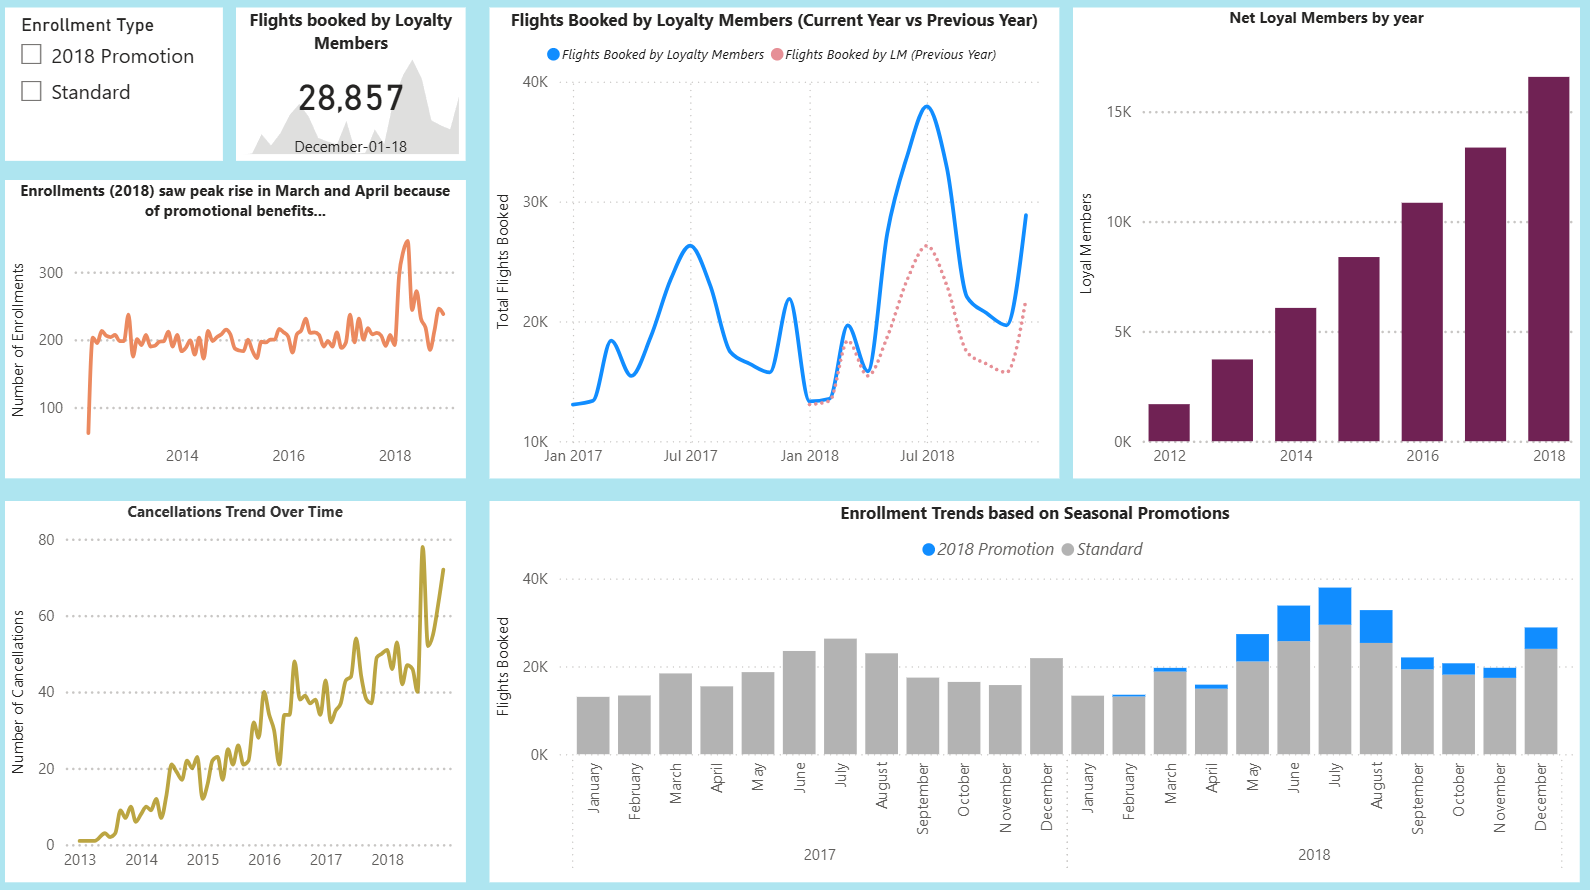

Layout of this report page (visuals, bound fields, positions):
{"tool":"powerbi","page":{"name":"Page 1","canvas":[1280,720],"ordinal":0},"visuals":[{"type":"lineChart","title":"Cancellations Trend Over Time","fields":{"Y":["Measure Table.Total Cancellations"],"Category":["Calendar.Start of Month.Variation.Date Hierarchy.Year","Calendar.Start of Month.Variation.Date Hierarchy.Month","Calendar.Start of Month.Variation.Date Hierarchy.Day"]},"box":[14.3,405.7,366.3,303.1],"z":0},{"type":"columnChart","title":"Net Loyal Members by year","fields":{"Category":["Calendar.Date.Variation.Date Hierarchy.Year","Calendar.Date.Variation.Date Hierarchy.Quarter","Calendar.Date.Variation.Date Hierarchy.Month","Calendar.Date.Variation.Date Hierarchy.Day"],"Y":["Measure Table.Net Loyal Members (Running Total)"]},"box":[863.9,13.1,403.3,374.7],"z":1000},{"type":"lineChart","title":"Enrollments (2018) saw peak rise in March and April because of promotional benefits...","fields":{"Y":["Measure Table.Total Enrollments"],"Category":["Calendar.Start of Month.Variation.Date Hierarchy.Year","Calendar.Start of Month.Variation.Date Hierarchy.Month","Calendar.Start of Month.Variation.Date Hierarchy.Day"]},"box":[14.3,150.4,366.3,237.5],"z":2000},{"type":"lineChart","title":"Flights Booked by Loyalty Members (Current Year vs Previous Year)","fields":{"Category":["Calendar.Start of Month.Variation.Date Hierarchy.Year","Calendar.Start of Month.Variation.Date Hierarchy.Quarter","Calendar.Start of Month.Variation.Date Hierarchy.Month","Calendar.Start of Month.Variation.Date Hierarchy.Day"],"Y":["Measure Table.Flights Booked by Loyalty Members","Measure Table.Flights Booked by LM (Previous Year)"]},"box":[399.8,13.1,453.5,374.7],"z":3000},{"type":"columnChart","title":"Enrollment Trends based on Seasonal Promotions","fields":{"Y":["Measure Table.Flights Booked by Loyalty Members"],"Category":["Calendar.Start of Month.Variation.Date Hierarchy.Year","Calendar.Start of Month.Variation.Date Hierarchy.Month"],"Series":["Customer Loyalty History.Enrollment Type"]},"box":[399.8,405.7,867.5,303.1],"z":4000},{"type":"slicer","fields":{"Values":["Customer Loyalty History.Enrollment Type"]},"box":[14.3,13.1,173,121.7],"z":5000},{"type":"kpi","title":"Flights booked by Loyalty Members","fields":{"Indicator":["Measure Table.Flights Booked by Loyalty Members"],"TrendLine":["Calendar.Date"]},"box":[198.1,13.1,182.6,121.7],"z":6000}]}

Visuals, with their boxes in screenshot pixels (x1, y1, x2, y2), scaled from the page's 1280x720 canvas onto the 1590x890 screenshot:
"Cancellations Trend Over Time" lineChart: bbox(18, 501, 473, 876)
"Net Loyal Members by year" columnChart: bbox(1073, 16, 1574, 479)
"Enrollments (2018) saw peak rise in March and April because of promotional benefits..." lineChart: bbox(18, 186, 473, 479)
"Flights Booked by Loyalty Members (Current Year vs Previous Year)" lineChart: bbox(497, 16, 1060, 479)
"Enrollment Trends based on Seasonal Promotions" columnChart: bbox(497, 501, 1574, 876)
slicer - Customer Loyalty History.Enrollment Type: bbox(18, 16, 233, 167)
"Flights booked by Loyalty Members" kpi: bbox(246, 16, 473, 167)
